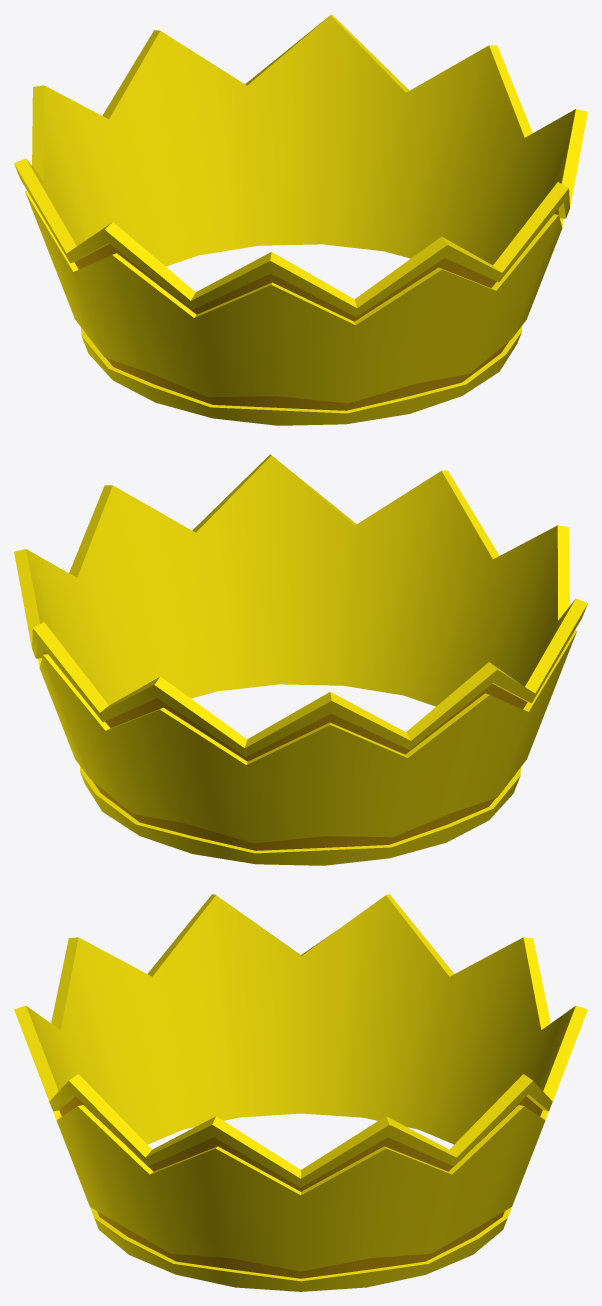
The model's file is King Crown.fbx.
The picture shows the model from 3 angles, top to bottom: view 1: azimuth 30°, elevation 25°; view 2: azimuth 150°, elevation 25°; view 3: azimuth 270°, elevation 25°; orthographic projection. The views are drawn at different scales.
Parts seen in each view (by area): view 1: Cylinder; view 2: Cylinder; view 3: Cylinder.
Boxes of the visible parts, box(x1,y1,x2,y2) form: Cylinder: box(14, 14, 587, 425); Cylinder: box(14, 454, 587, 865); Cylinder: box(14, 894, 587, 1291).
Size of the model in its own units: 257 by 102 by 270.
